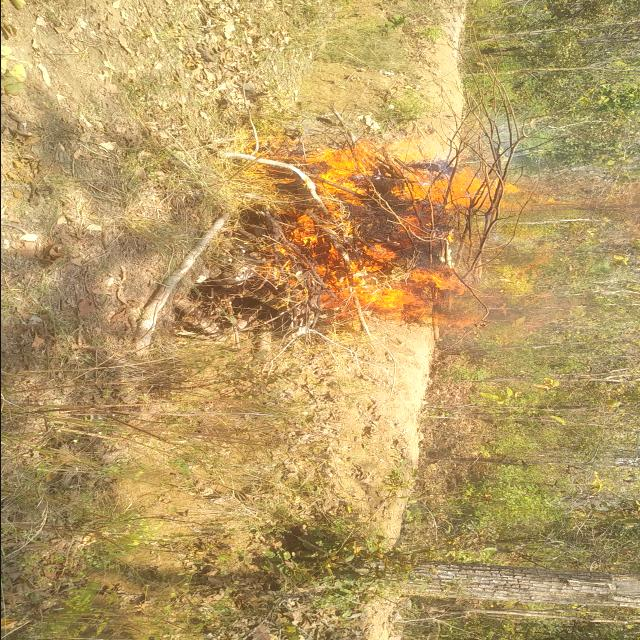firerotation: (262, 139, 594, 327)
